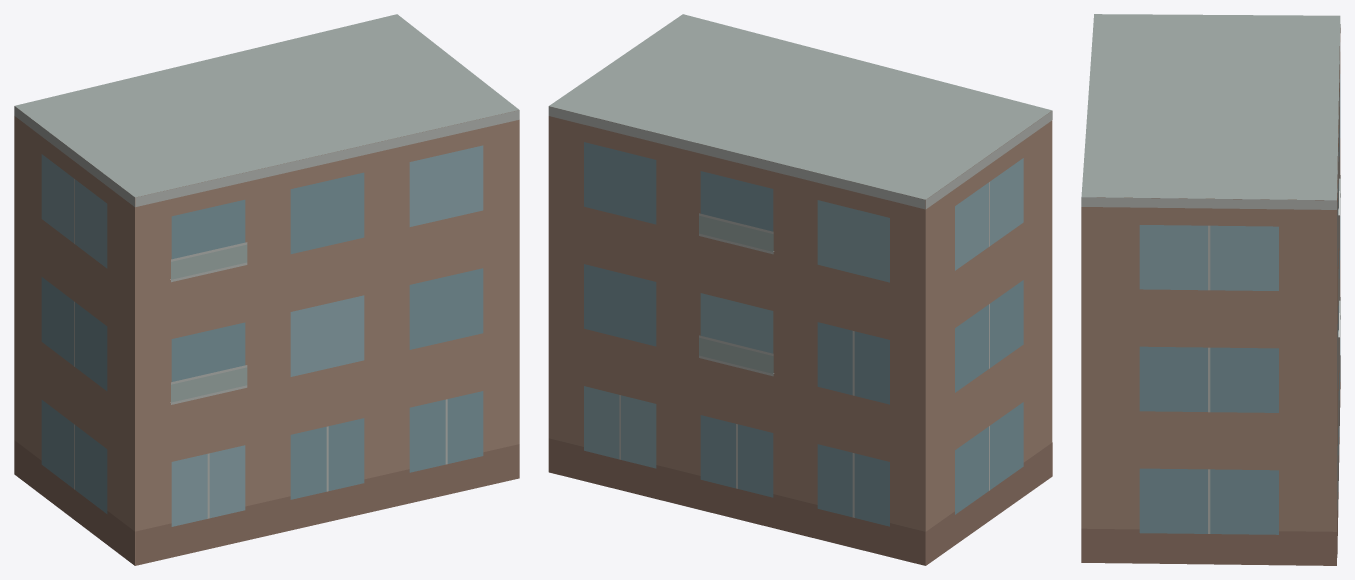
File: survey-upis-32775104.glb
3 views of the same model, side by side, from view 1: azimuth 30°, elevation 25°; view 2: azimuth 150°, elevation 25°; view 3: azimuth 270°, elevation 25° (orthographic).
Visible parts, largest first — view 1: survey-upis-32775104.tmp; view 2: survey-upis-32775104.tmp; view 3: survey-upis-32775104.tmp.
Boxes of the visible parts, x1,y1,x2,y2 form: survey-upis-32775104.tmp: (14, 14, 519, 565); survey-upis-32775104.tmp: (548, 14, 1052, 565); survey-upis-32775104.tmp: (1081, 14, 1340, 565).
Bounding box in the file's own units: 10.01 × 9.15 × 5.89.
